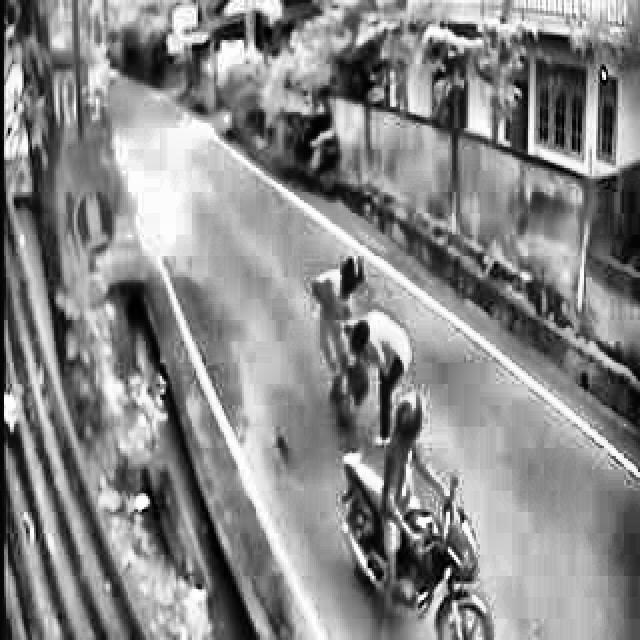robbery: (306, 250, 424, 446)
